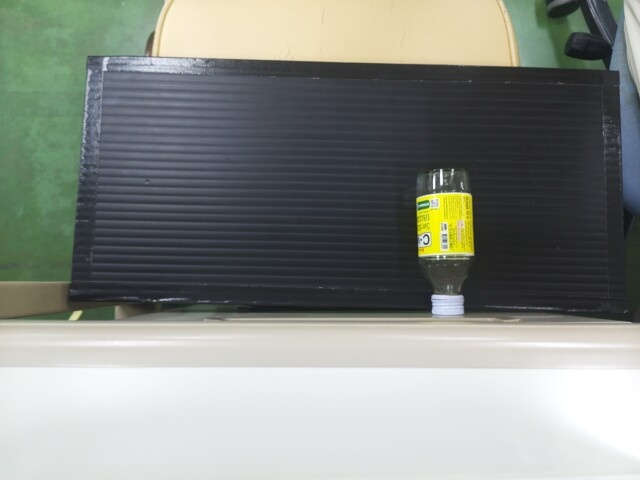glass_bottle: (413, 167, 476, 314)
